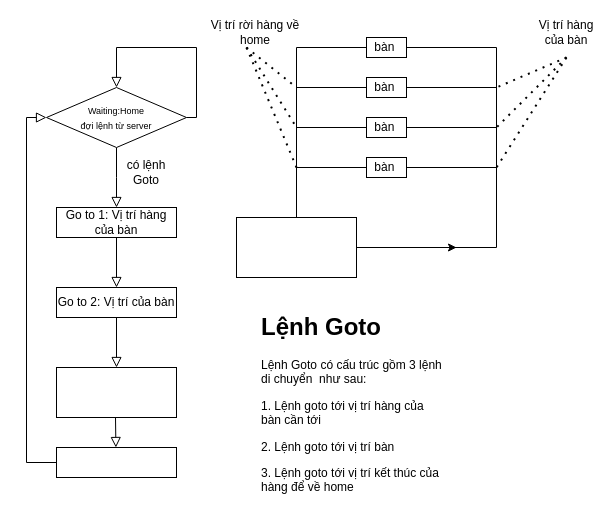
Image size: 614x514. Some labels were removed from this diagram. Each missing label, with the centre of its shape:
"Go to 3: Vị trí rời hàng để về Home" goes at [116,462].
"Home" goes at [296,247].
"xử lý giao hàng cho khách" goes at [116,392].
